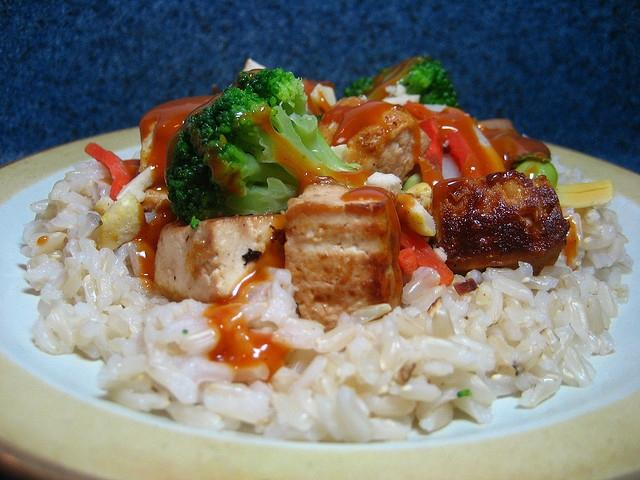broccoli: (165, 67, 364, 227), (342, 55, 460, 109)
